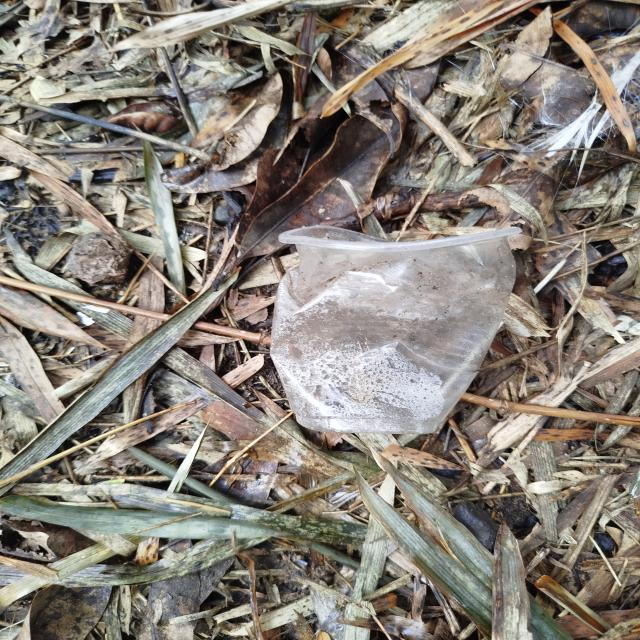plastic: (239, 205, 533, 449)
